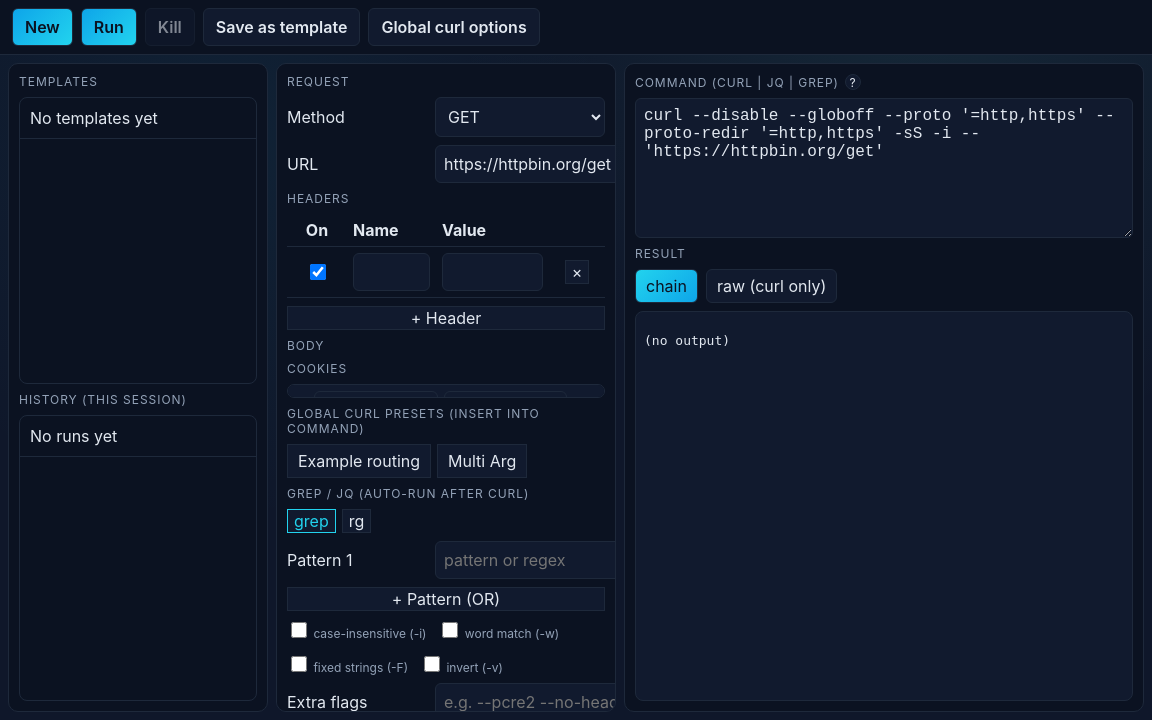
template replay › keeps an unsuccessful save recoverable without claiming success
The width and height of the screenshot is (1152, 720).
Check: the button "Example routing" is shown, box x1=287 y1=444 x2=431 y2=478
Click the button "Save as template" at [282, 27], box x1=203 y1=8 x2=360 y2=46
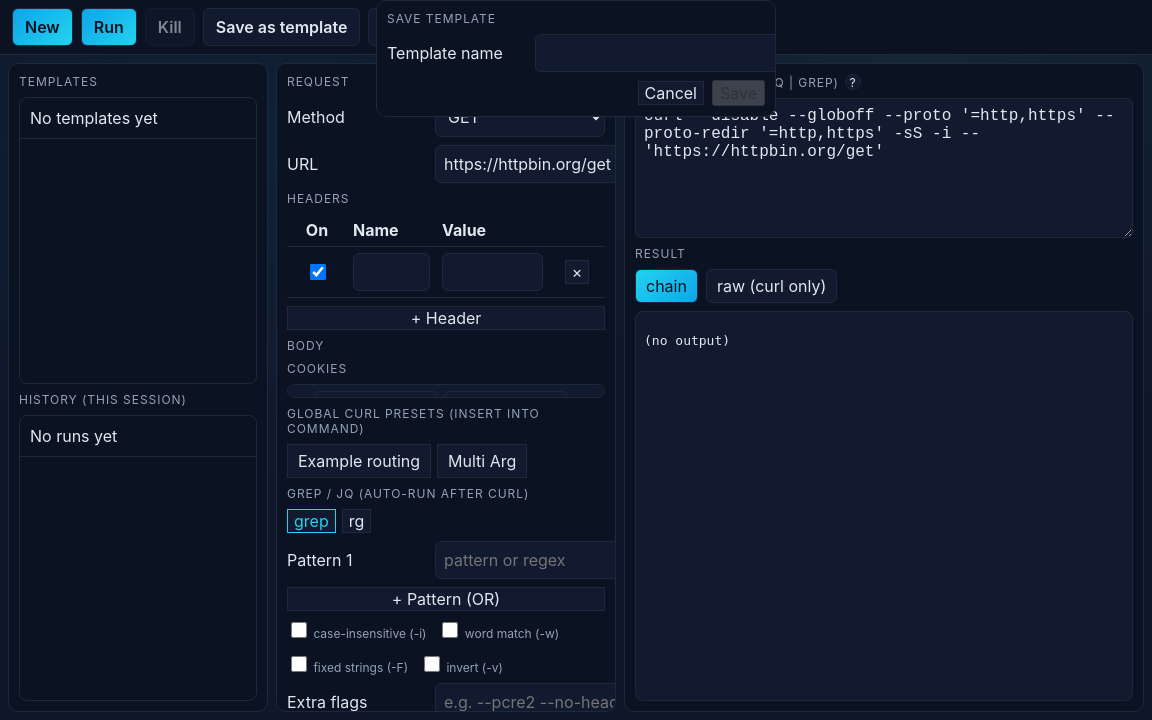
Type "Try again" into the field labelled "Template name" at [668, 53], box x1=535 y1=34 x2=801 y2=72
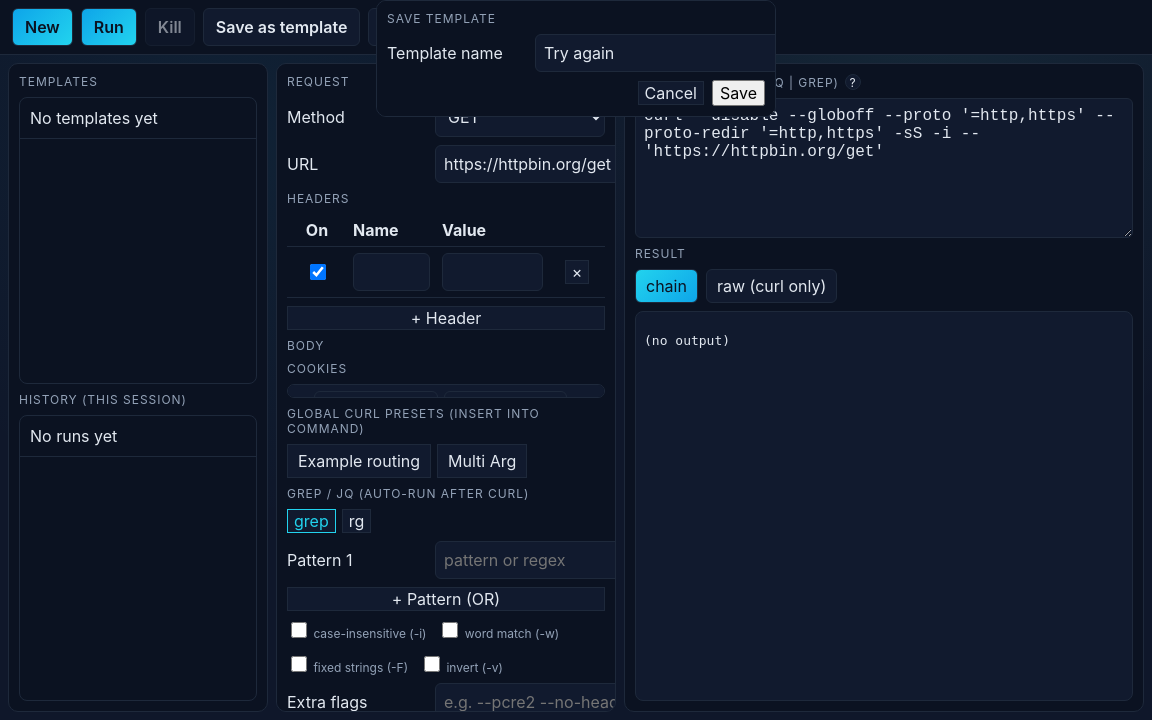
Click the button "Save" at [738, 93], box x1=712 y1=80 x2=765 y2=106
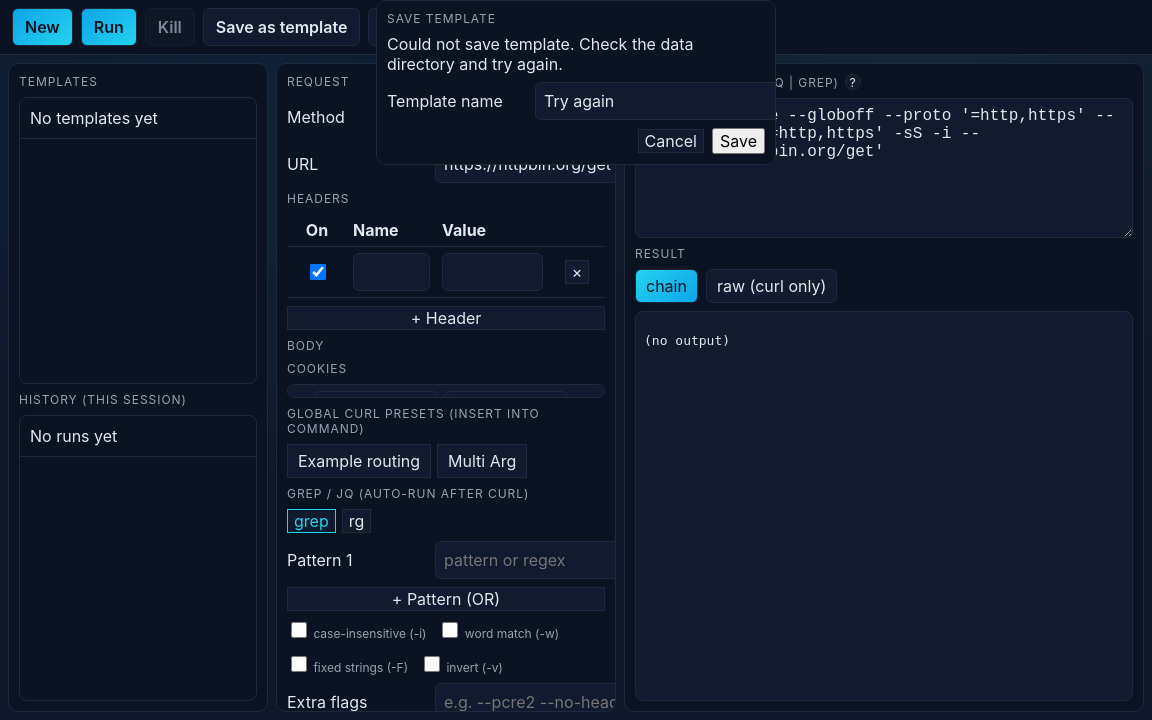
Check: the button "Try again GET" is not shown
Check: the text "Could not save template. Check the data directory and try again." is shown, box x1=387 y1=34 x2=694 y2=74
Click the button "Save" at [738, 141], box x1=712 y1=128 x2=765 y2=154
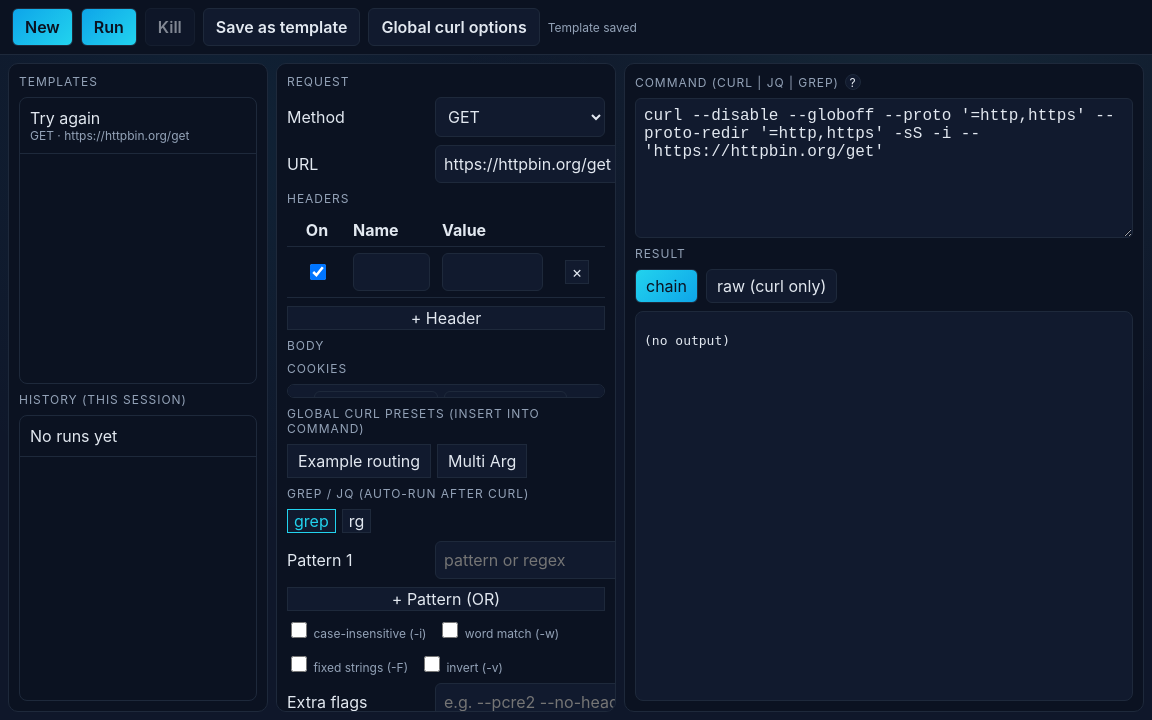
Check: the text "Template saved" is shown, box x1=548 y1=20 x2=637 y2=34
